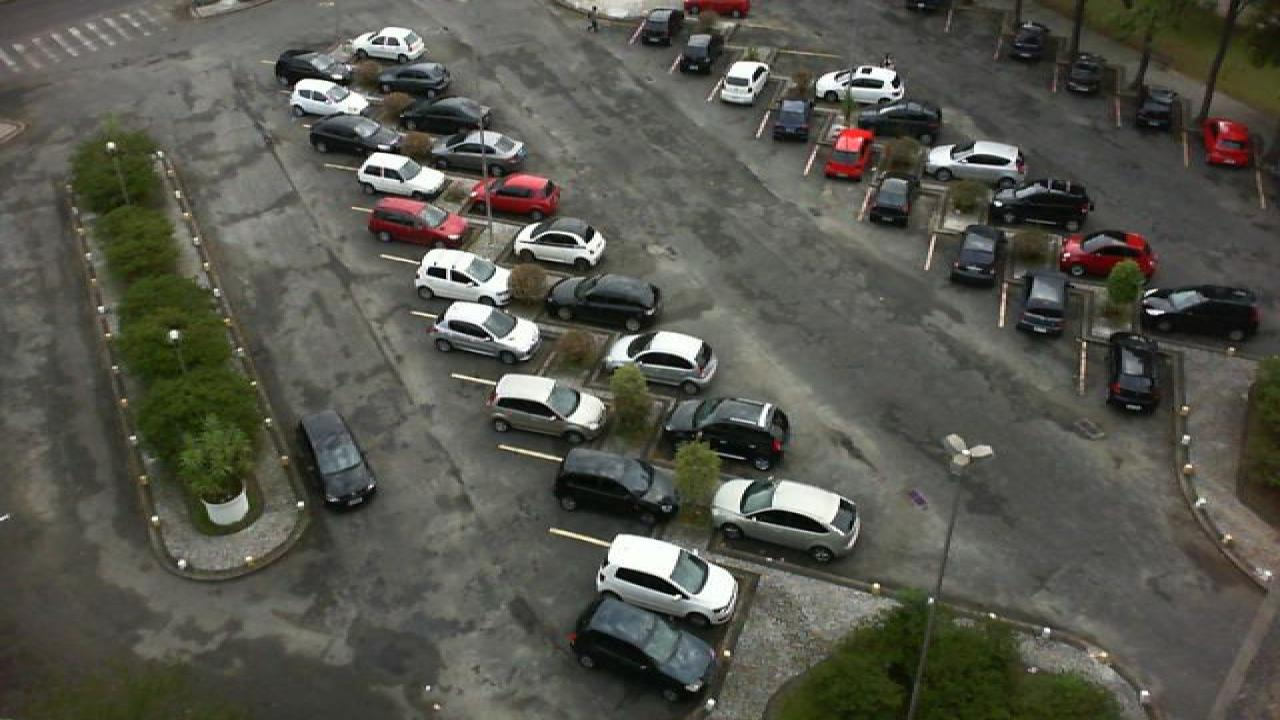Car: (568, 594, 718, 704), (592, 531, 742, 627), (708, 478, 864, 563), (552, 449, 676, 523), (664, 395, 790, 466), (486, 372, 610, 440), (600, 328, 720, 396), (1138, 281, 1264, 343), (296, 410, 376, 507), (544, 272, 664, 332), (428, 300, 542, 362), (410, 247, 528, 305), (986, 179, 1096, 231), (510, 217, 608, 271), (368, 196, 472, 246), (1060, 230, 1158, 282), (354, 152, 450, 201), (1106, 332, 1162, 415), (428, 128, 528, 174), (468, 171, 564, 218), (304, 114, 404, 158), (924, 140, 1026, 181), (398, 96, 492, 138), (814, 64, 908, 106), (1018, 270, 1074, 338), (858, 101, 944, 143), (948, 222, 1002, 286), (290, 78, 370, 121), (274, 51, 360, 90), (822, 126, 876, 183), (1198, 116, 1254, 170), (376, 61, 454, 99), (348, 27, 428, 64), (870, 172, 912, 227), (720, 61, 770, 106), (1134, 86, 1178, 132), (770, 96, 812, 144), (678, 32, 720, 76), (1064, 52, 1106, 94), (634, 7, 678, 47), (1012, 21, 1050, 63), (682, 0, 750, 18)
